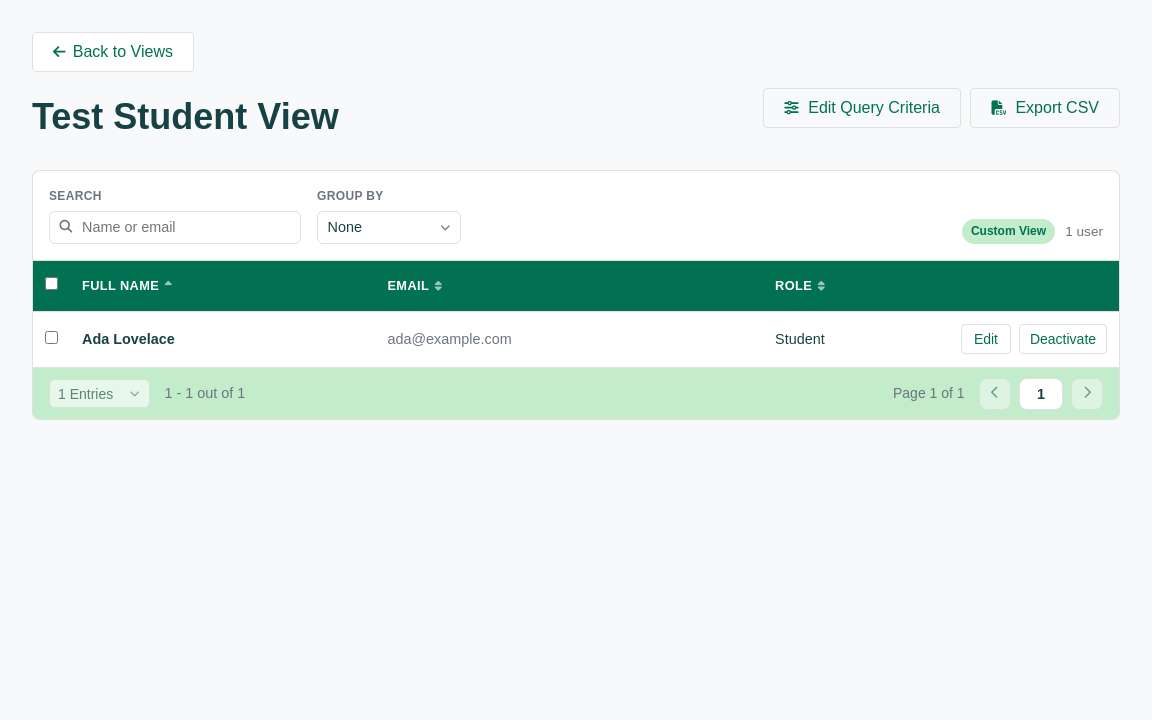
Test: AdminViewExecutedPage › shows a sent consent request on the open sheet and reloads the results
This screenshot has width=1152, height=720.
Step 1. Click the button with class "admin-view-table__name-btn" → x=128, y=339, box [82, 328, 175, 351]
(page scrolled)
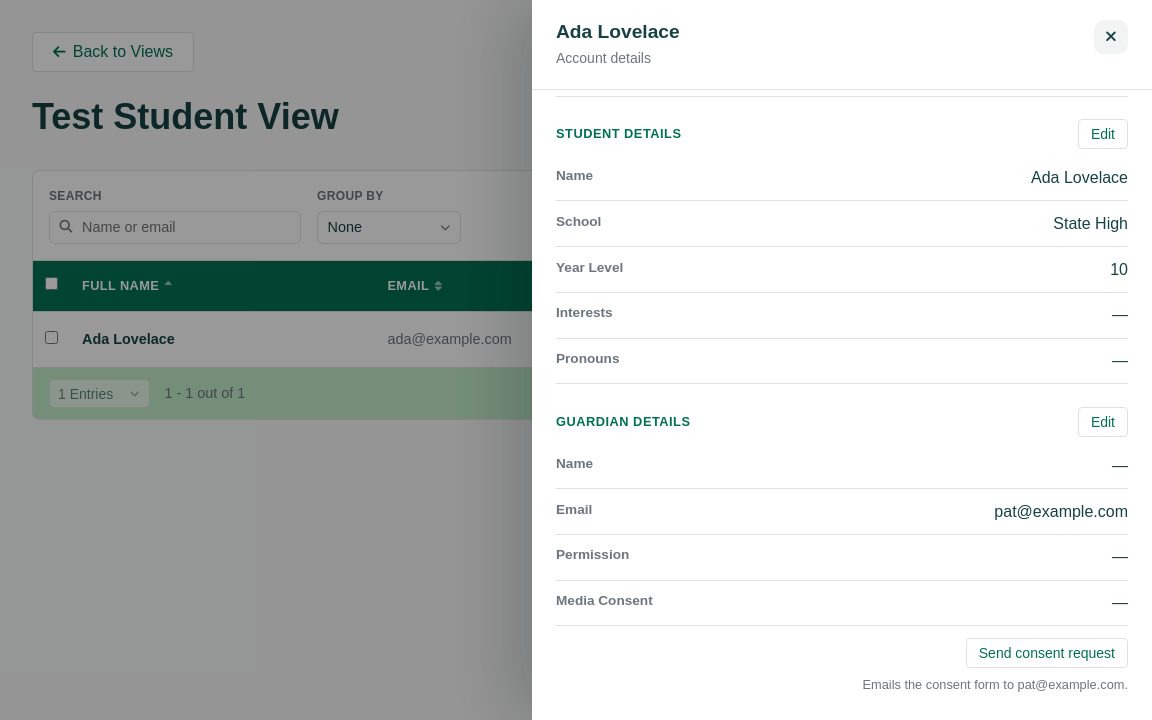
Step 2. Click the button with test id "admin-send-consent-request" → x=1047, y=653, box [966, 638, 1128, 668]
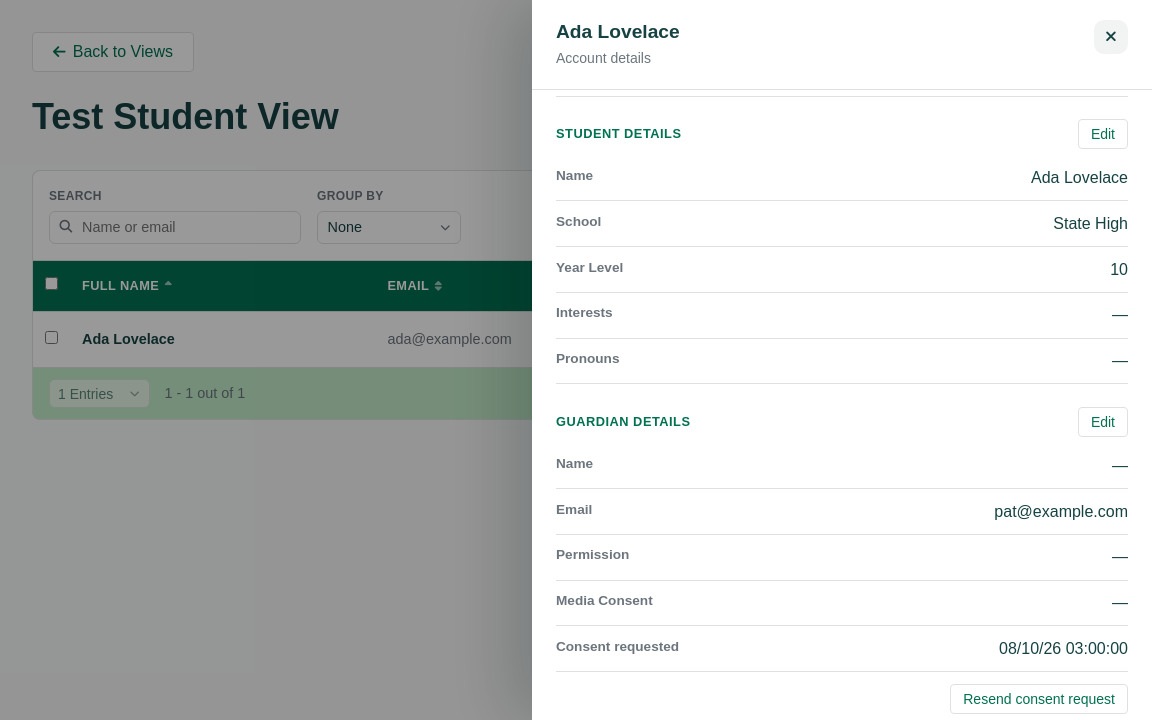
Result: the element with test id "admin-consent-request-sent" is shown at [556, 626, 1128, 672]
